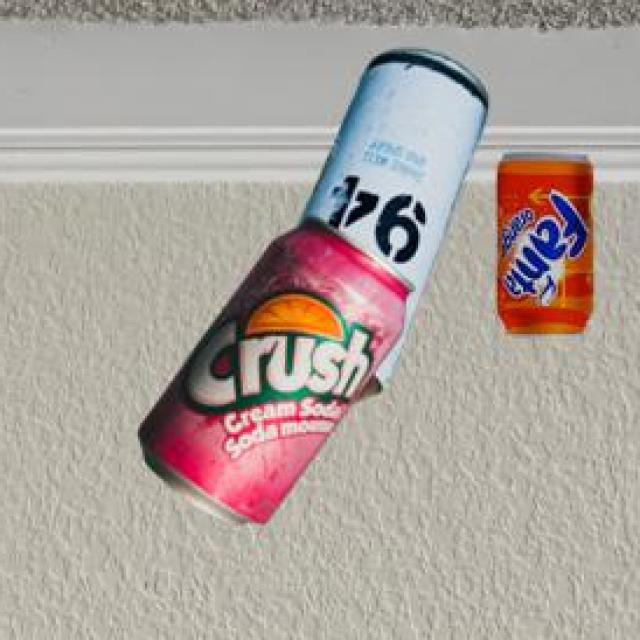logam: (141, 218, 417, 529), (302, 53, 492, 405), (501, 158, 597, 340)
